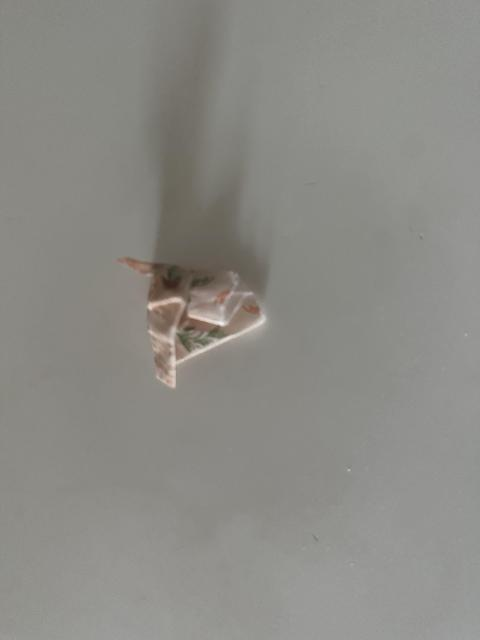Kagit: (115, 256, 268, 388)
